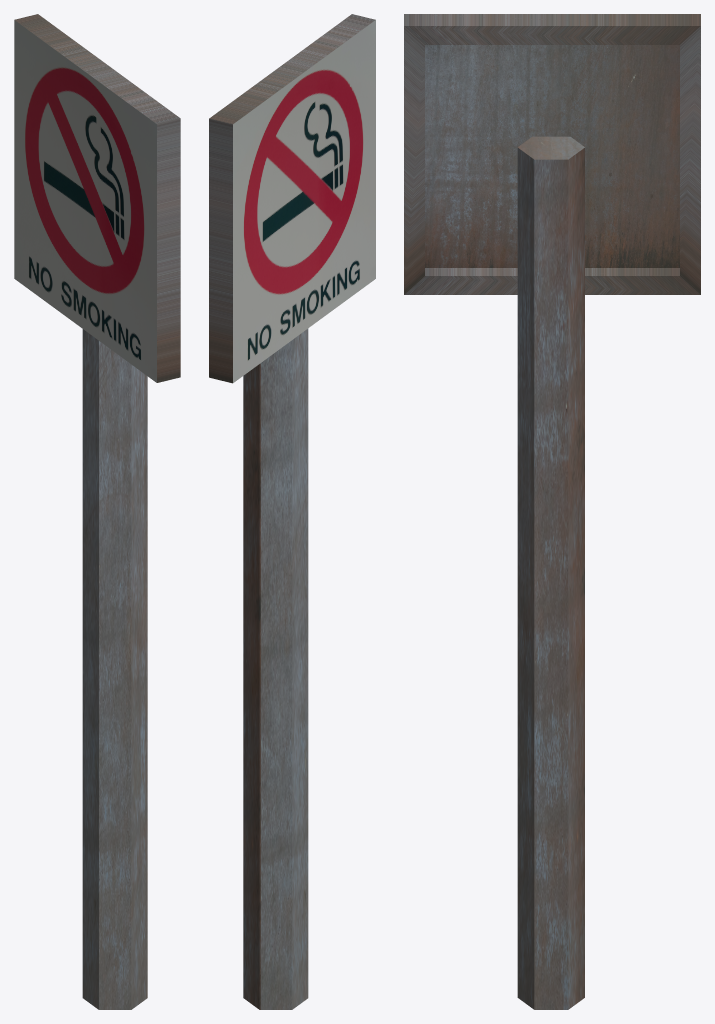
The model's file is panneau_no_smoking.fbx.
3 views of the same model, side by side, from view 1: azimuth 30°, elevation 25°; view 2: azimuth 150°, elevation 25°; view 3: azimuth 270°, elevation 25° (orthographic). The views are drawn at different scales.
Parts seen in each view (by area): view 1: panneau_no_smoking.001; view 2: panneau_no_smoking.001; view 3: panneau_no_smoking.001.
Boxes of the visible parts, <box> form: panneau_no_smoking.001: <box>14,14,180,1009</box>; panneau_no_smoking.001: <box>209,14,375,1009</box>; panneau_no_smoking.001: <box>404,14,700,1009</box>.
Bounding box in the file's own units: 1.25 × 20.86 × 5.79.
2 materials, 2 textured.
